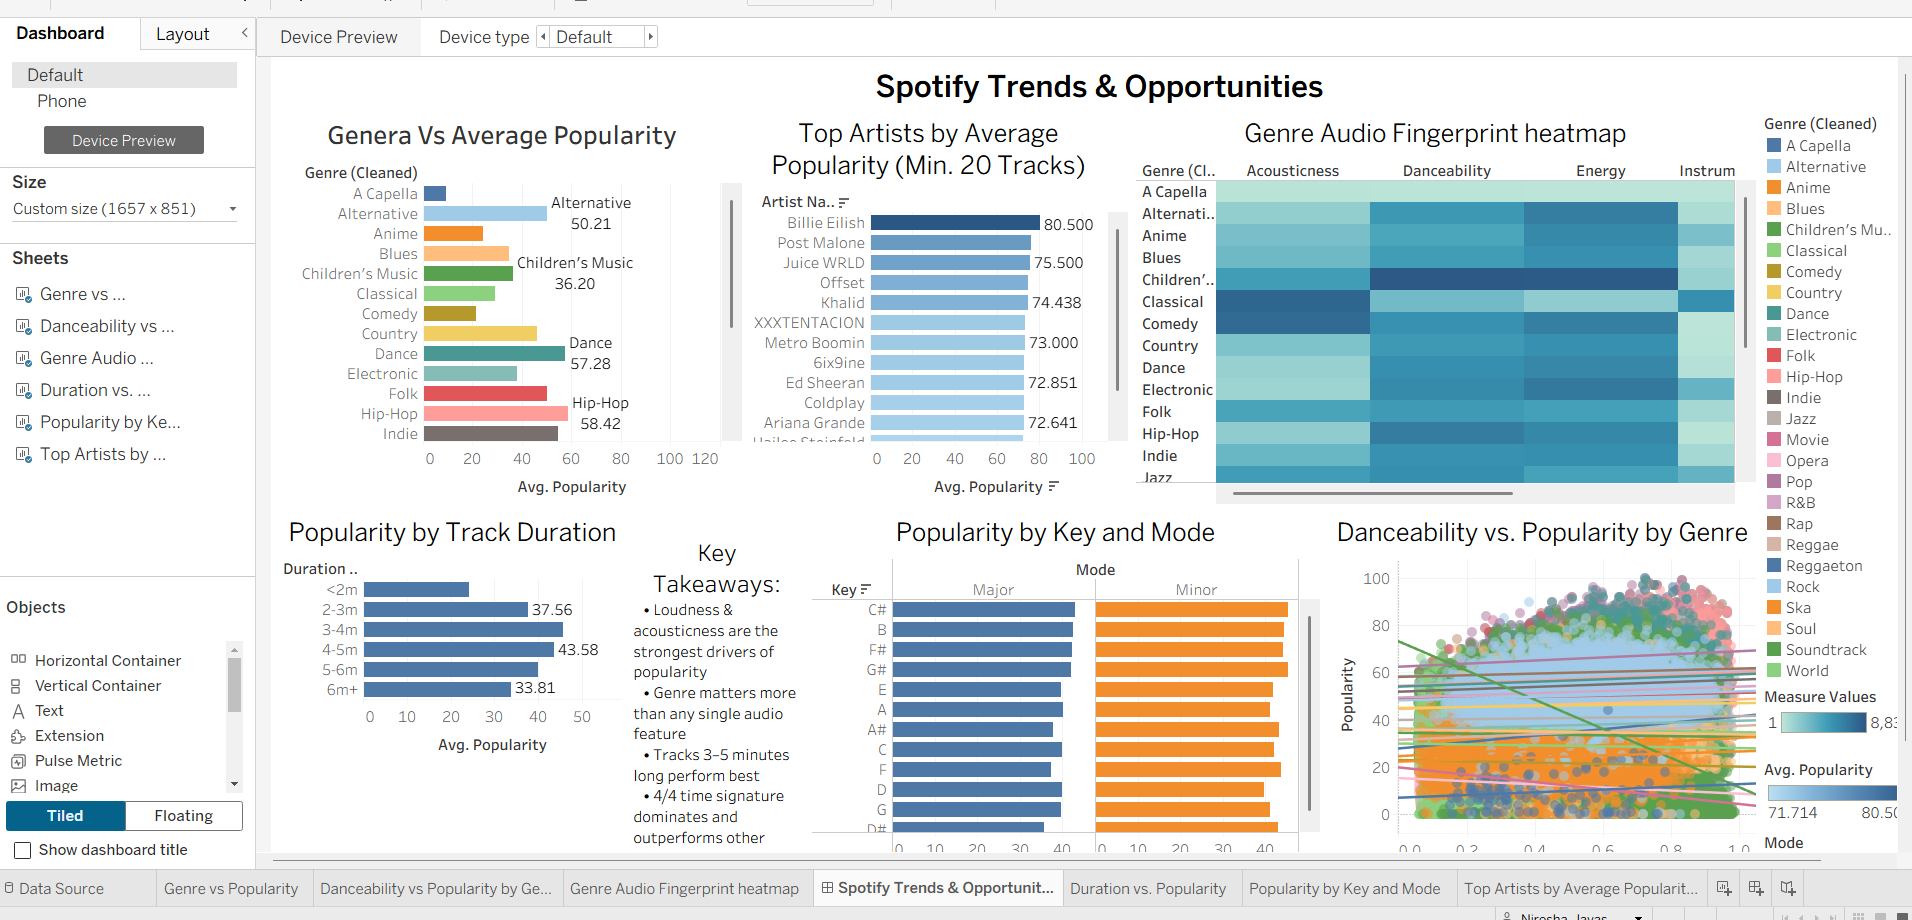

What the dashboard file says about the page in this screenshot:
{"tool":"tableau","page":{"name":"Dashboard 1","canvas":[1000,1000],"units":"permille","ordinal":0},"visuals":[{"type":"worksheet","title":"Genera vs Popurarity ","mark":"Automatic","rows":["genre"],"cols":["popularity"],"box":[4.8,9.4,342.8,490.6]},{"type":"worksheet","title":"Top Artists by Average Popularity (Min. 20 Tracks)","mark":"Automatic","rows":["artist_name"],"cols":["popularity"],"box":[347.6,9.4,288.5,490.6]},{"type":"worksheet","title":"Genre Audio Fingerprint heatmap","mark":"Square","rows":["genre"],"box":[636.1,9.4,262.5,490.6]},{"type":"legend","title":"Genera vs Popurarity ","param":"[federated.1jibqtb0lvd3jf1bv6ry0120apf9].[none:genre:nk]","box":[898.6,9.4,96.6,701.5]},{"type":"worksheet","title":"Duration vs. Popularity","mark":"Automatic","rows":["Calculation_1779306409078784"],"cols":["popularity"],"box":[4.8,500,298.7,490.6]},{"type":"worksheet","title":"Popularity by Key and Mode","mark":"Automatic","rows":["key"],"cols":["mode","popularity"],"box":[303.6,500,332.5,490.6]},{"type":"worksheet","title":"DAnceability vs. Popularity by Genre","mark":"Circle","rows":["popularity"],"cols":["danceability"],"box":[636.1,500,262.5,490.6]},{"type":"legend","title":"Genre Audio Fingerprint heatmap","param":"[federated.1jibqtb0lvd3jf1bv6ry0120apf9].[Multiple Values]","box":[898.6,710.9,96.6,85.8]},{"type":"legend","title":"Top Artists by Average Popularity (Min. 20 Tracks)","param":"[federated.1jibqtb0lvd3jf1bv6ry0120apf9].[avg:popularity:qk]","box":[898.6,796.7,96.6,85.8]},{"type":"legend","title":"Popularity by Key and Mode","param":"[federated.1jibqtb0lvd3jf1bv6ry0120apf9].[none:mode:nk]","box":[898.6,882.5,96.6,84.6]}]}

Visuals, with their boxes on the dashboard's canvas, which has no fixed pixel size, in thousandths of its width and height (x1, y1, x2, y2). These are canvas units, not pixel positions in the 1912x920 screenshot, which may show the page scaled, cropped or inside an application window:
"Genera vs Popurarity " worksheet: l=5, t=9, r=348, b=500
"Top Artists by Average Popularity (Min. 20 Tracks)" worksheet: l=348, t=9, r=636, b=500
"Genre Audio Fingerprint heatmap" worksheet (Square marks): l=636, t=9, r=899, b=500
"Genera vs Popurarity " legend: l=899, t=9, r=995, b=711
"Duration vs. Popularity" worksheet: l=5, t=500, r=304, b=991
"Popularity by Key and Mode" worksheet: l=304, t=500, r=636, b=991
"DAnceability vs. Popularity by Genre" worksheet (Circle marks): l=636, t=500, r=899, b=991
"Genre Audio Fingerprint heatmap" legend: l=899, t=711, r=995, b=797
"Top Artists by Average Popularity (Min. 20 Tracks)" legend: l=899, t=797, r=995, b=882
"Popularity by Key and Mode" legend: l=899, t=882, r=995, b=967
